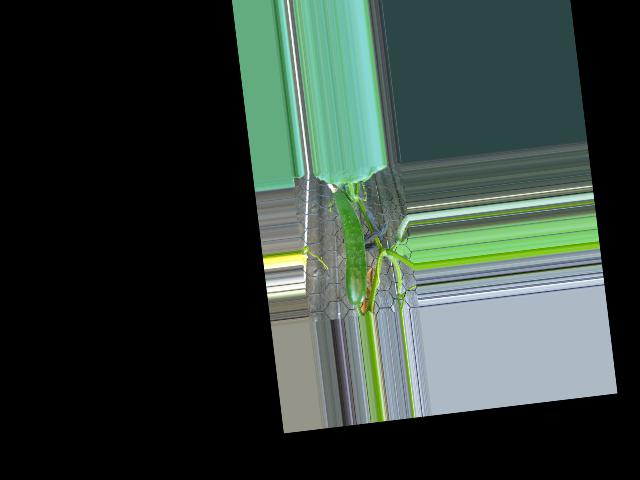cucumber: (333, 189, 372, 306)
